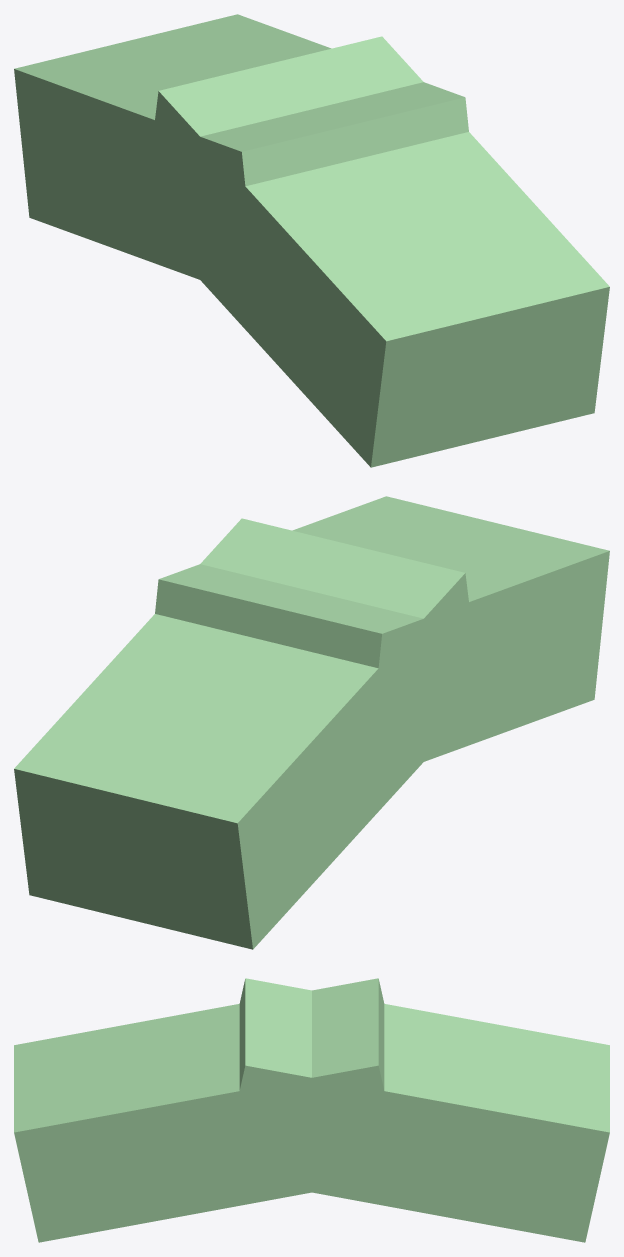
File: RARM_LINK7_mesh.dae
3 renders of one model, top to bottom at view 1: azimuth 30°, elevation 25°; view 2: azimuth 150°, elevation 25°; view 3: azimuth 270°, elevation 25°, orthographic. The views are drawn at different scales.
Visible parts, largest first — view 1: RARM_LINK7 (×2); view 2: RARM_LINK7 (×2); view 3: RARM_LINK7 (×2).
Boxes of the visible parts, x1,y1,x2,y2 form: RARM_LINK7 (×2): (14, 14, 609, 467); RARM_LINK7 (×2): (14, 496, 609, 949); RARM_LINK7 (×2): (14, 978, 609, 1242).
Size of the model in its own units: 0.05 by 0.0473 by 0.1442.
